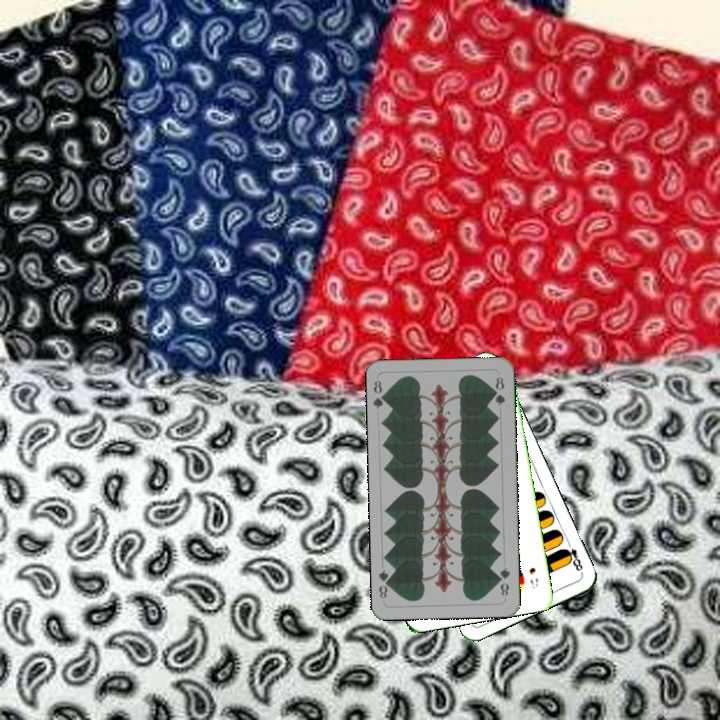E8: (560, 537, 585, 576)
G8: (369, 377, 390, 411), (495, 563, 513, 599)
S8: (525, 563, 541, 591)
